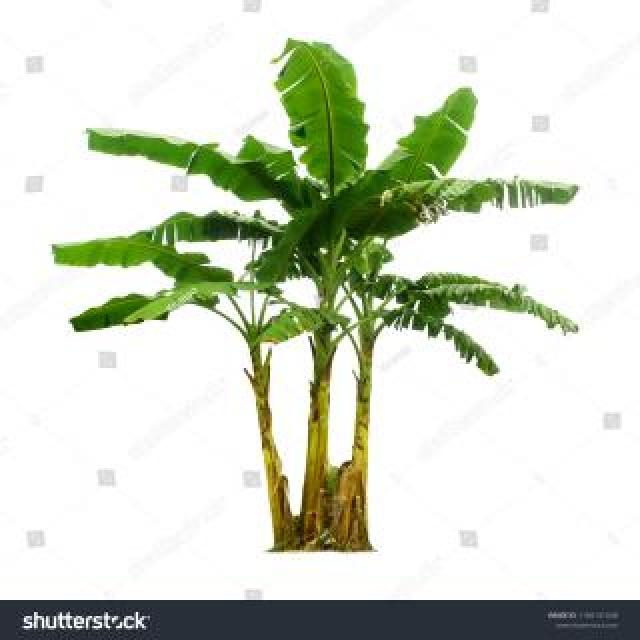Pisang: (53, 49, 572, 558)
